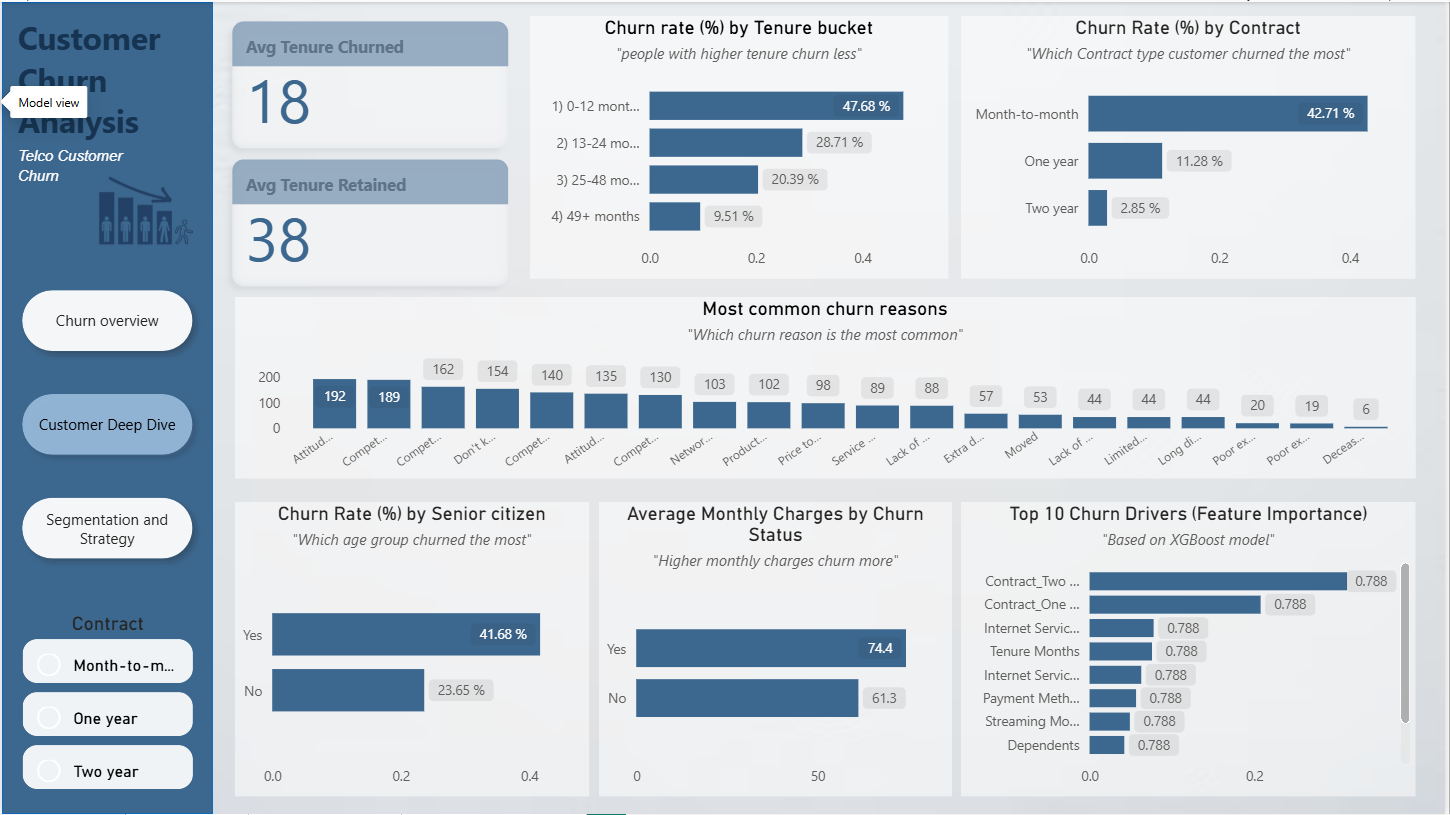

What the dashboard file says about the page in this screenshot:
{"tool":"powerbi","page":{"name":"Customer Deep Dive","canvas":[1280,720],"ordinal":1},"visuals":[{"type":"shape","box":[0,0,187,720.1],"z":0},{"type":"cardVisual","fields":{"Data":["telco_churn_final.Avg Tenure Churned"]},"box":[187,0,279,147],"z":1000},{"type":"pageNavigator","box":[9.3,246.2,169.6,256.7],"z":2000},{"type":"cardVisual","fields":{"Data":["telco_churn_final.Avg Tenure Retained"]},"box":[187,122,279.9,147.5],"z":3000},{"type":"clusteredBarChart","title":"Churn Rate (%)  by Contract","fields":{"Category":["telco_churn_final.Contract"],"Y":["telco_churn_final.Churn Rate %"]},"box":[850.2,12.8,403,233.5],"z":4000},{"type":"clusteredBarChart","title":"Churn rate (%) by Tenure bucket","fields":{"Y":["telco_churn_final.Churn Rate %"],"Category":["telco_churn_final.Tenure Bucket"]},"box":[468.1,12.8,370.5,233.5],"z":5000},{"type":"barChart","title":"Churn Rate (%)  by Senior citizen","fields":{"Category":["telco_churn_final.Senior Citizen"],"Y":["telco_churn_final.Churn Rate %"]},"box":[206.8,443.7,313.6,261.3],"z":6000},{"type":"textbox","title":"Customer Churn Analysis","box":[9.3,12.8,169.6,120.8],"z":7000},{"type":"image","box":[48.8,105.7,158,155.6],"z":8000},{"type":"textbox","box":[9.3,122,109.2,61.6],"z":9000},{"type":"clusteredColumnChart","title":"Most common churn reasons","fields":{"Category":["telco_churn_final.Churn Reason"],"Y":["CountNonNull(telco_churn_final.CustomerID)"]},"box":[206.8,261.3,1046.5,161.5],"z":10000},{"type":"advancedSlicerVisual","fields":{"Values":["telco_churn_final.Contract"]},"box":[13.3,540.8,161.2,164.3],"z":11000},{"type":"barChart","title":"Average Monthly Charges by Churn Status","fields":{"Category":["telco_churn_final.Churn Label"],"Y":["telco_churn_final.Avg Monthly Charges"]},"box":[529.7,443.7,313,261.3],"z":12000},{"type":"barChart","title":"Top 10 Churn Drivers (Feature Importance)","fields":{"Category":["feature_importance (2).Feature"],"Y":["Sum(feature_importance (2).Importance)"]},"box":[850.2,443.7,403,261.3],"z":13000}]}

Visuals, with their boxes on the page's 1280x720 design canvas (x1, y1, x2, y2). These are canvas units, not pixel positions in the 1450x815 screenshot, which may show the page scaled, cropped or inside an application window:
shape: <region>0, 0, 187, 720</region>
cardVisual - telco_churn_final.Avg Tenure Churned: <region>187, 0, 466, 147</region>
pageNavigator: <region>9, 246, 179, 503</region>
cardVisual - telco_churn_final.Avg Tenure Retained: <region>187, 122, 467, 270</region>
"Churn Rate (%)  by Contract" clusteredBarChart: <region>850, 13, 1253, 246</region>
"Churn rate (%) by Tenure bucket" clusteredBarChart: <region>468, 13, 839, 246</region>
"Churn Rate (%)  by Senior citizen" barChart: <region>207, 444, 520, 705</region>
"Customer Churn Analysis" textbox: <region>9, 13, 179, 134</region>
image: <region>49, 106, 207, 261</region>
textbox: <region>9, 122, 118, 184</region>
"Most common churn reasons" clusteredColumnChart: <region>207, 261, 1253, 423</region>
advancedSlicerVisual - telco_churn_final.Contract: <region>13, 541, 174, 705</region>
"Average Monthly Charges by Churn Status" barChart: <region>530, 444, 843, 705</region>
"Top 10 Churn Drivers (Feature Importance)" barChart: <region>850, 444, 1253, 705</region>
